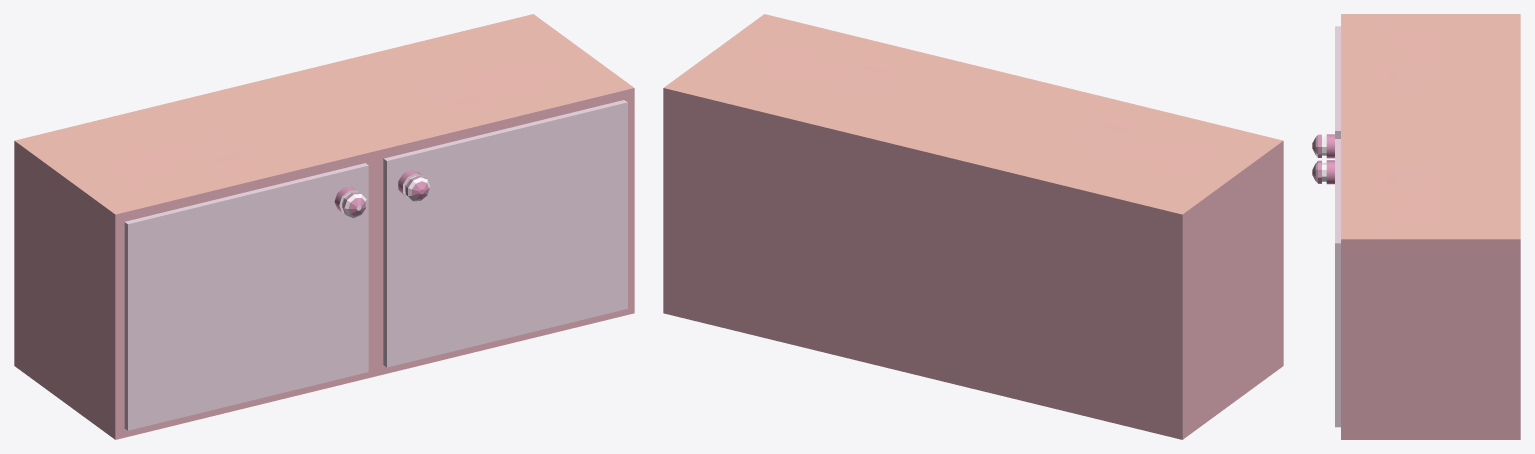
File: Cabinet_Pink_Lower2.fbx
3 views of the same model, side by side, from view 1: azimuth 30°, elevation 25°; view 2: azimuth 150°, elevation 25°; view 3: azimuth 270°, elevation 25° (orthographic). The views are drawn at different scales.
Visible parts, largest first — view 1: Cabinet_Pink_Lower2, Cabinet_Pink_Lower_Door01, Cabinet_Pink_Lower_Door02; view 2: Cabinet_Pink_Lower2; view 3: Cabinet_Pink_Lower2, Cabinet_Pink_Lower_Door01, Cabinet_Pink_Lower_Door02.
Boxes of the visible parts, left/top/right/bottom form: Cabinet_Pink_Lower2: left=14, top=14, right=634, bottom=439; Cabinet_Pink_Lower_Door01: left=383, top=100, right=627, bottom=367; Cabinet_Pink_Lower_Door02: left=124, top=163, right=368, bottom=430; Cabinet_Pink_Lower2: left=663, top=14, right=1283, bottom=439; Cabinet_Pink_Lower2: left=1341, top=14, right=1520, bottom=439; Cabinet_Pink_Lower_Door01: left=1312, top=139, right=1340, bottom=427; Cabinet_Pink_Lower_Door02: left=1312, top=26, right=1340, bottom=158.
Bounding box in the file's own units: 200 × 82.98 × 78.19.
